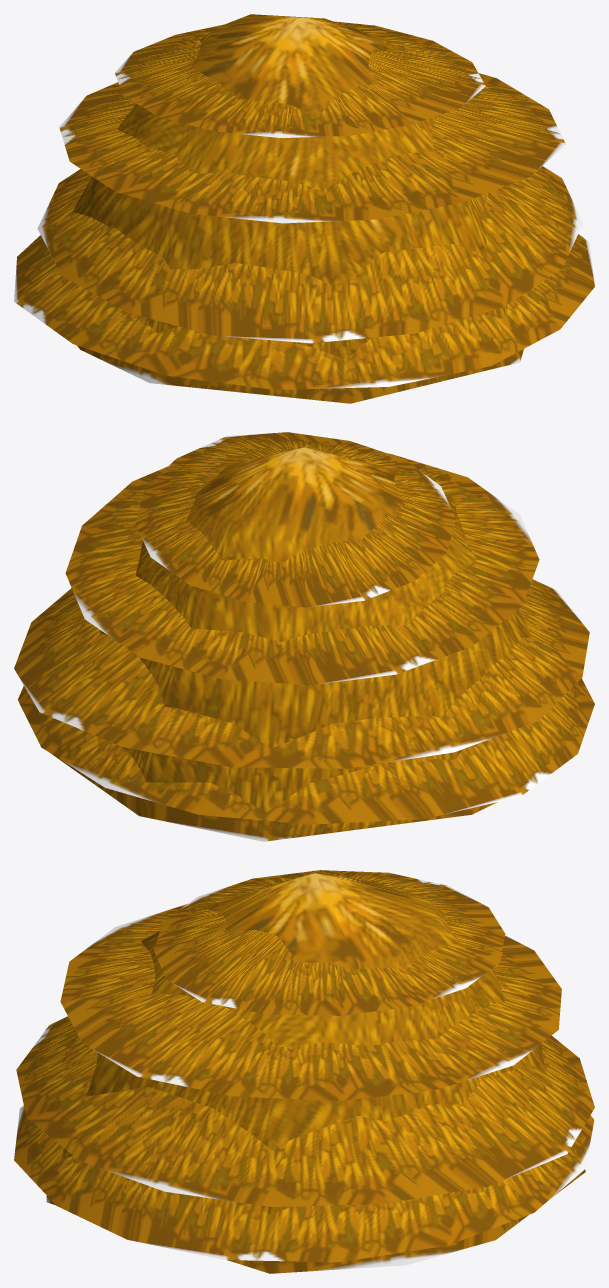
The model's file is SM_PROP_hay_05.glb.
3 views of the same model, one above another, from view 1: azimuth 30°, elevation 25°; view 2: azimuth 150°, elevation 25°; view 3: azimuth 270°, elevation 25° (orthographic). The views are drawn at different scales.
Parts seen in each view (by area): view 1: SM_PROP_hay_05_EXPORT; view 2: SM_PROP_hay_05_EXPORT; view 3: SM_PROP_hay_05_EXPORT.
Boxes of the visible parts, x1=… form: SM_PROP_hay_05_EXPORT: x1=14, y1=14, x2=594, y2=403; SM_PROP_hay_05_EXPORT: x1=14, y1=432, x2=594, y2=841; SM_PROP_hay_05_EXPORT: x1=14, y1=870, x2=594, y2=1273.
Bounding box in the file's own units: 2.48 × 1.3 × 2.41.
Materials: 1 (1 with a texture image).
